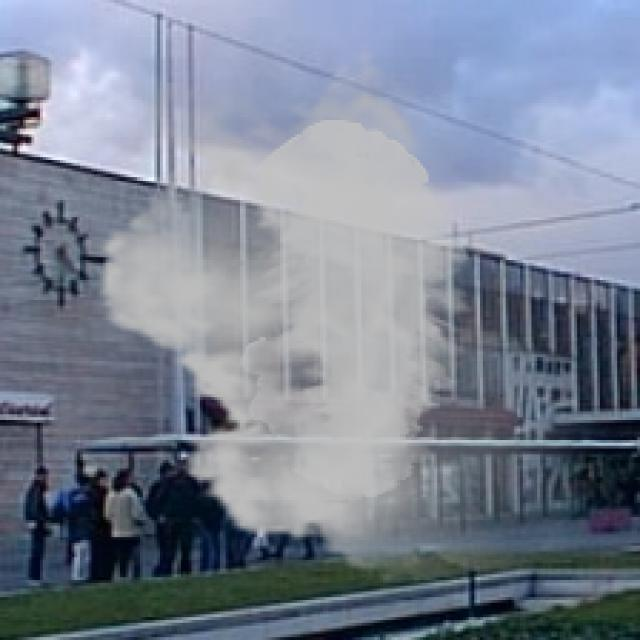smoke: (77, 48, 623, 583)
